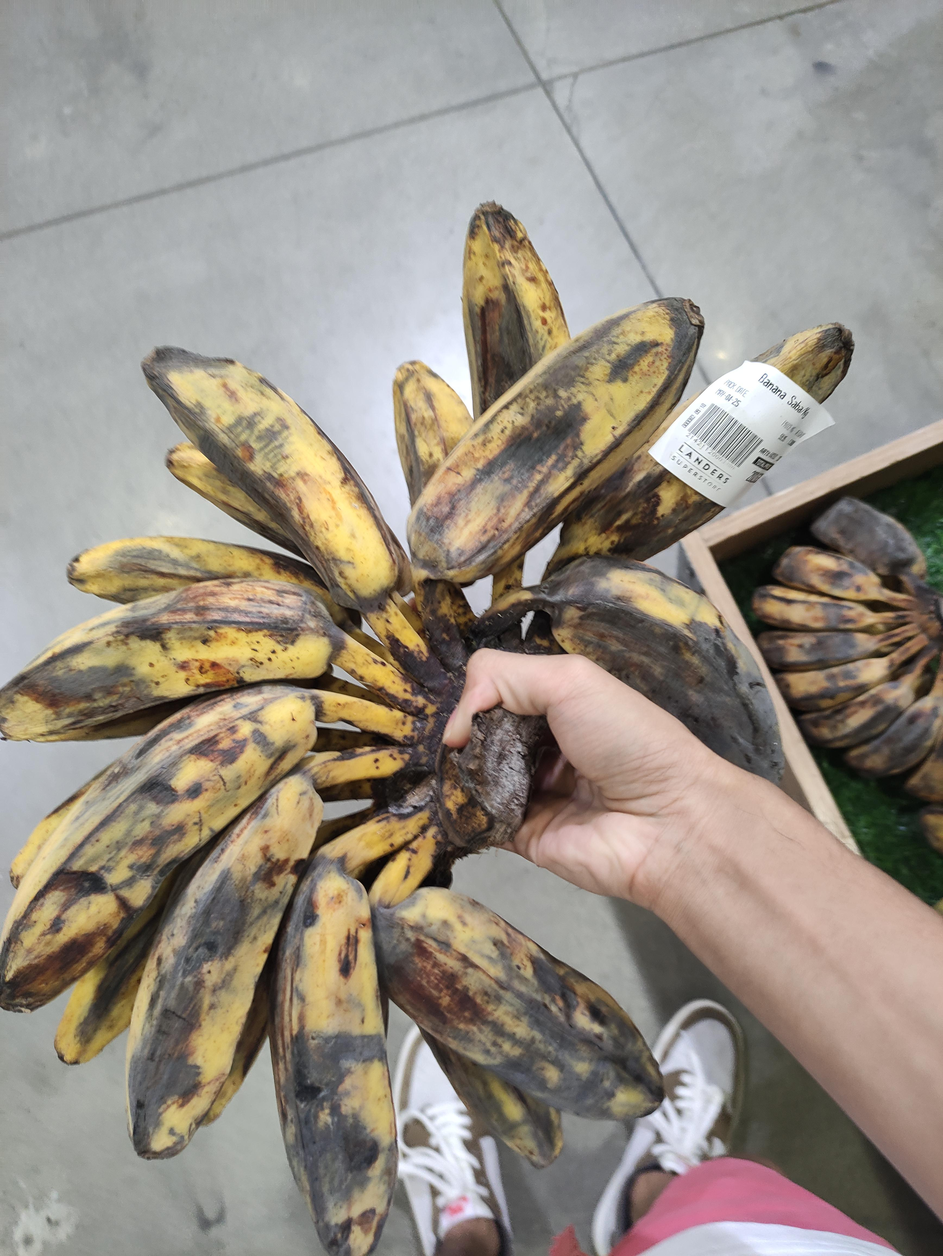ripe: (0, 203, 853, 1256)
